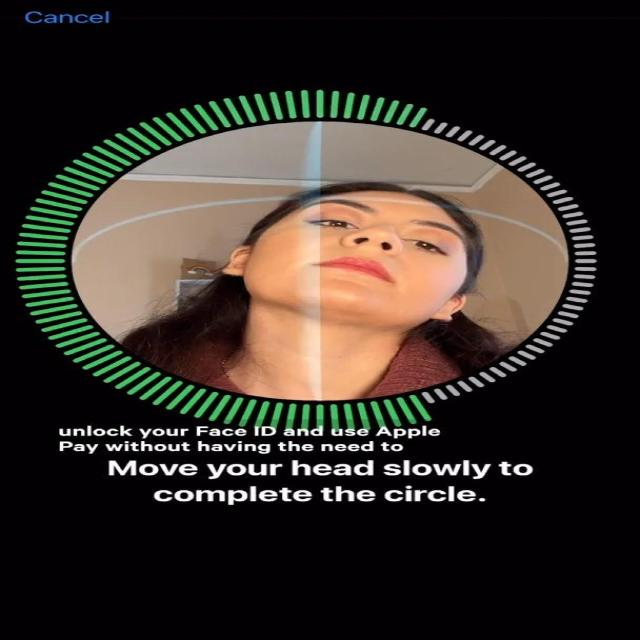NO-Mask: (248, 189, 464, 331)
